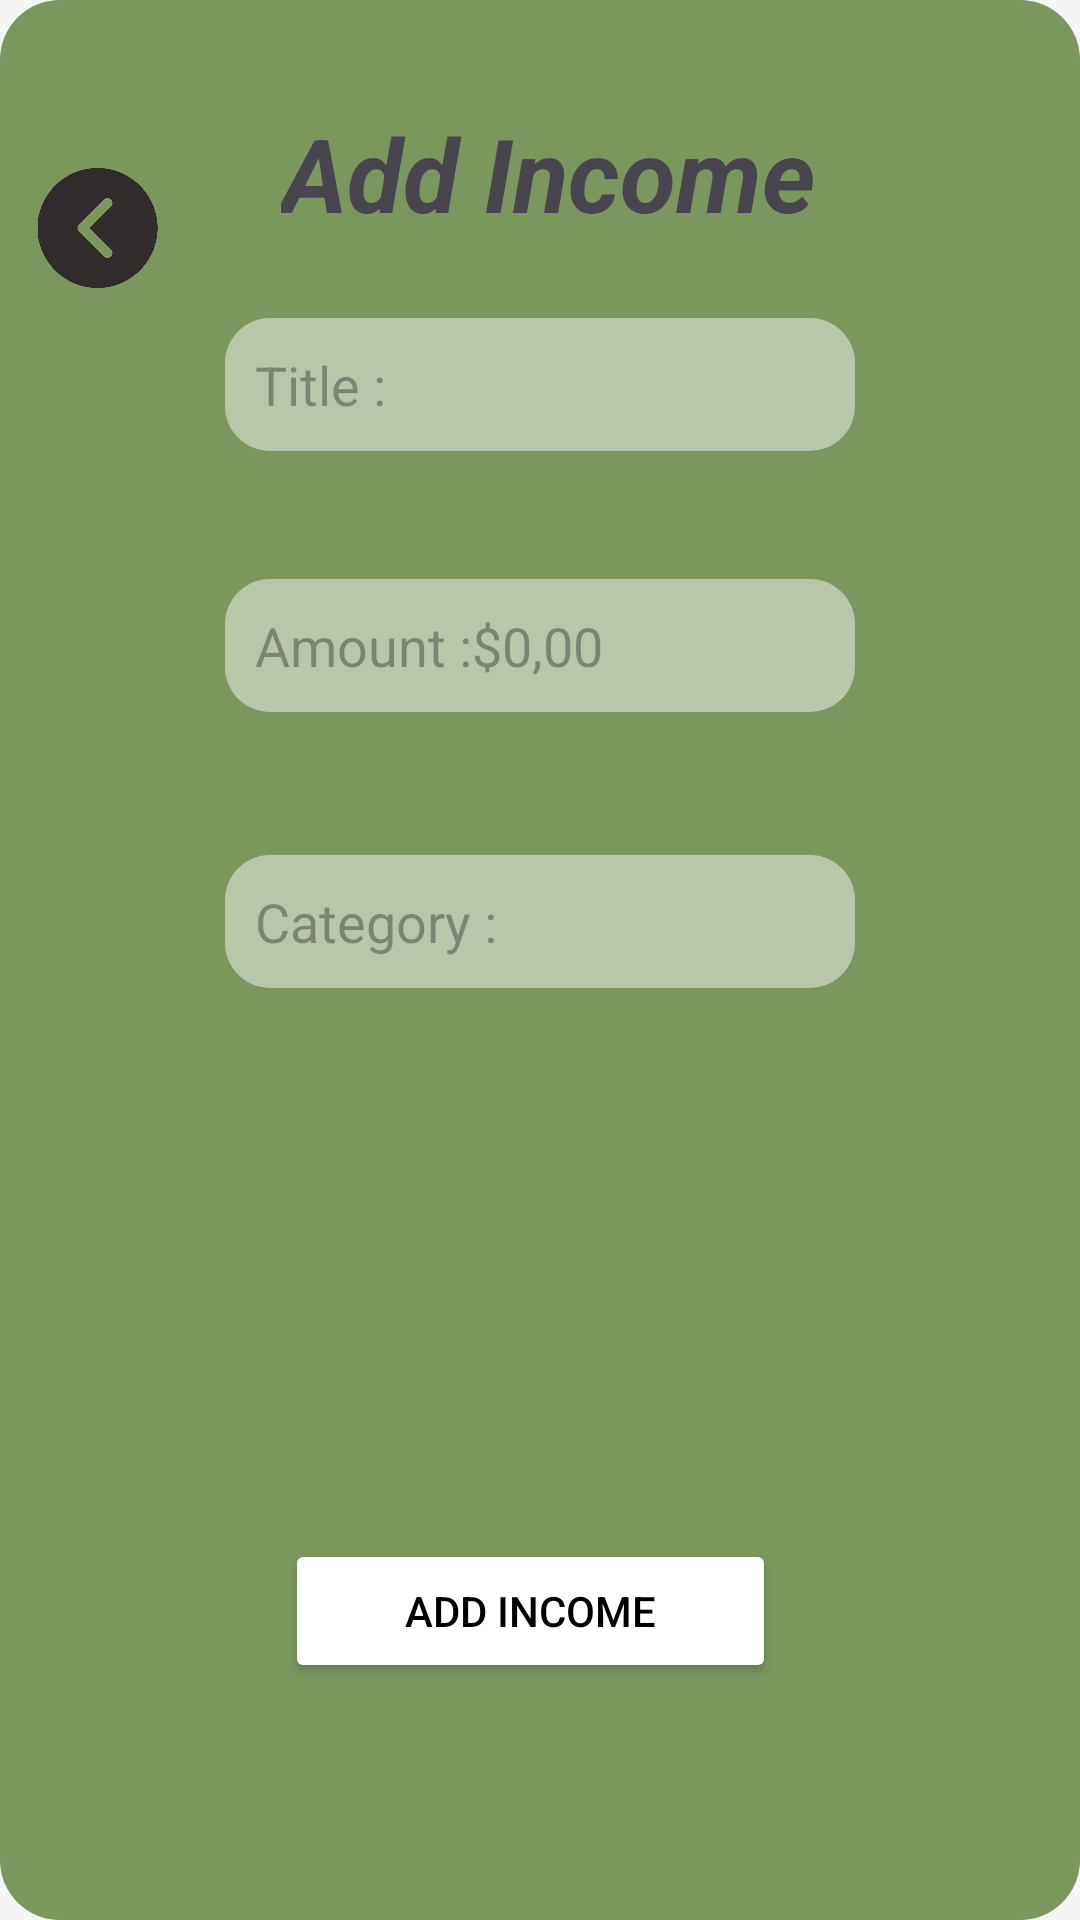

Named icons in this screenshot (1080px×1920px) and their centers, (x=x, y=y):
previous: (x=98, y=228)
